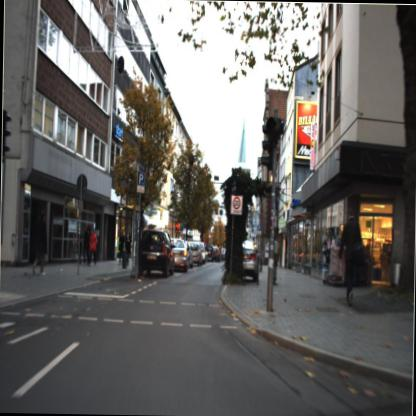prohibitory: (230, 193, 244, 214)
